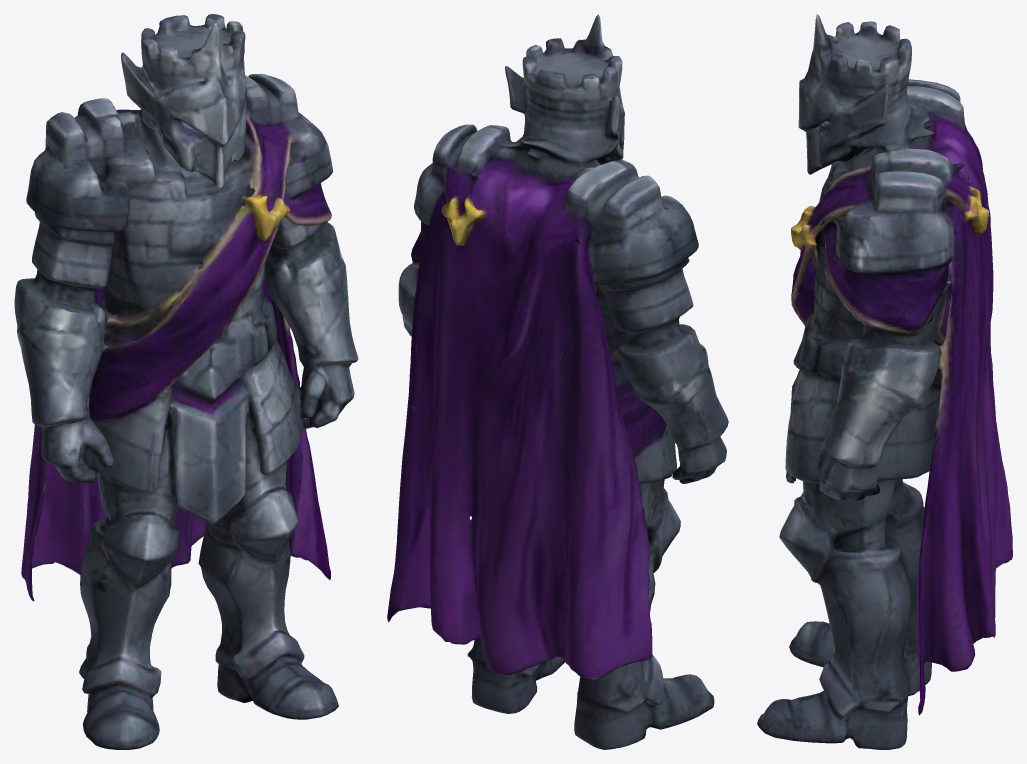
The model's file is reg_grand_bulwark.glb.
The picture shows the model from 3 angles, left to right: view 1: azimuth 30°, elevation 25°; view 2: azimuth 150°, elevation 25°; view 3: azimuth 270°, elevation 25°; orthographic projection. The views are drawn at different scales.
Bounding box in the file's own units: 0.3856 × 0.8142 × 0.2719.
Materials: 1 (1 with a texture image).
